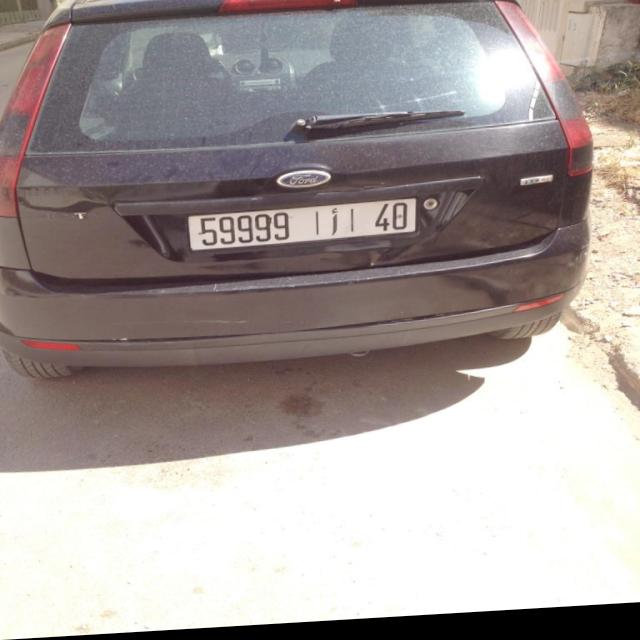License-Plate: (188, 203, 417, 254)
